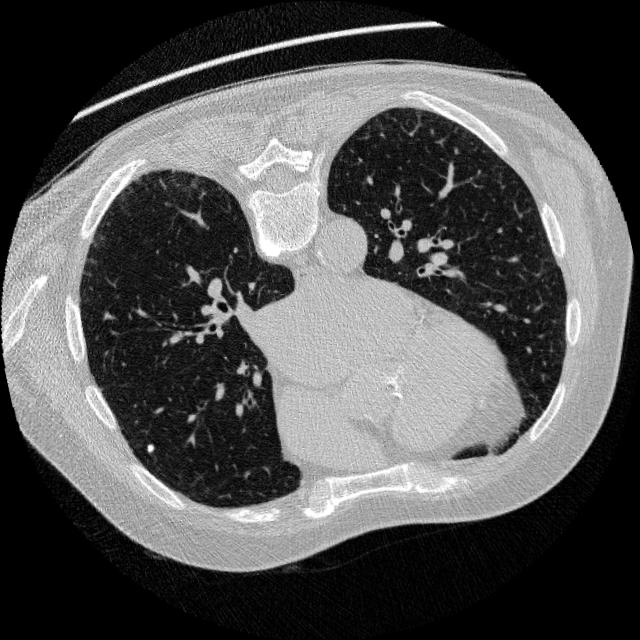nodule: (136, 436, 160, 461)
